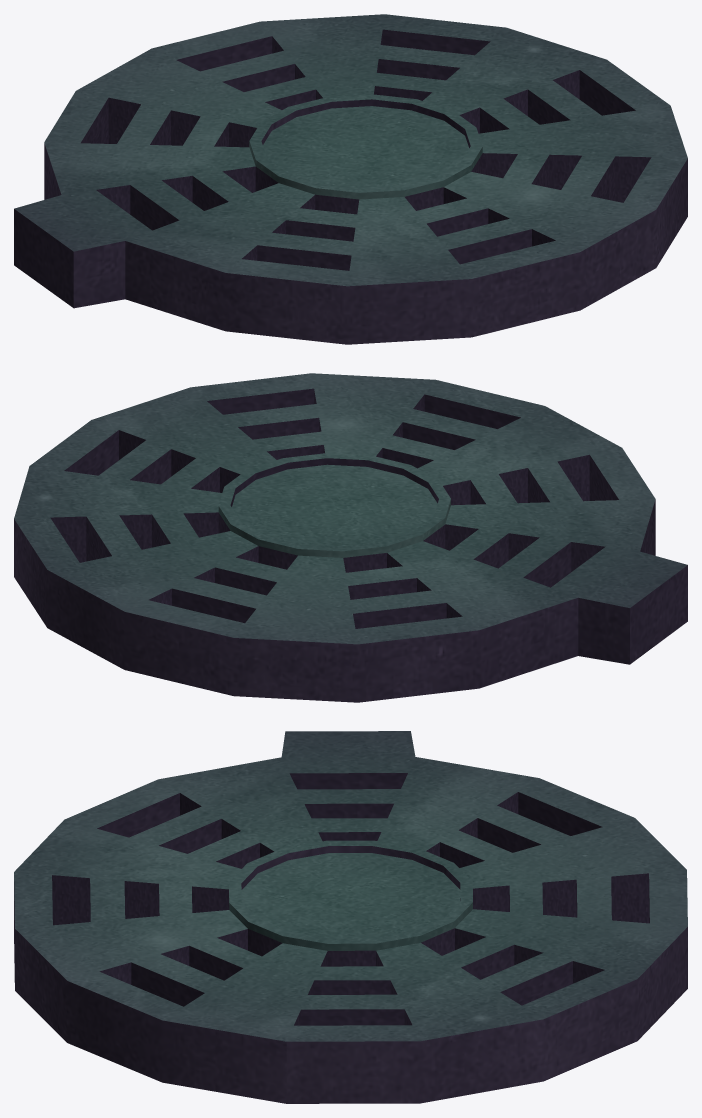
File: TampaDeBueiro.fbx
3 renders of one model, top to bottom at view 1: azimuth 30°, elevation 25°; view 2: azimuth 150°, elevation 25°; view 3: azimuth 270°, elevation 25°, orthographic. The views are drawn at different scales.
Parts seen in each view (by area): view 1: Tampa Bueiro; view 2: Tampa Bueiro; view 3: Tampa Bueiro.
Part boxes in pixels (x1,y1,x2,y2): Tampa Bueiro: (14,14,687,344); Tampa Bueiro: (14,373,687,702); Tampa Bueiro: (14,731,687,1103).
Bounding box in the file's own units: 64.27 × 6.68 × 58.93.
